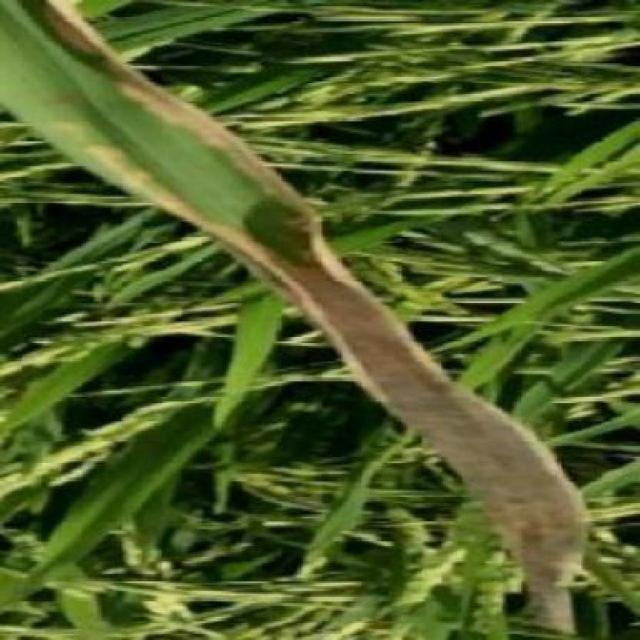Brown_Spot: (130, 80, 324, 328)
